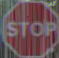Stop: (4, 6, 55, 46)
